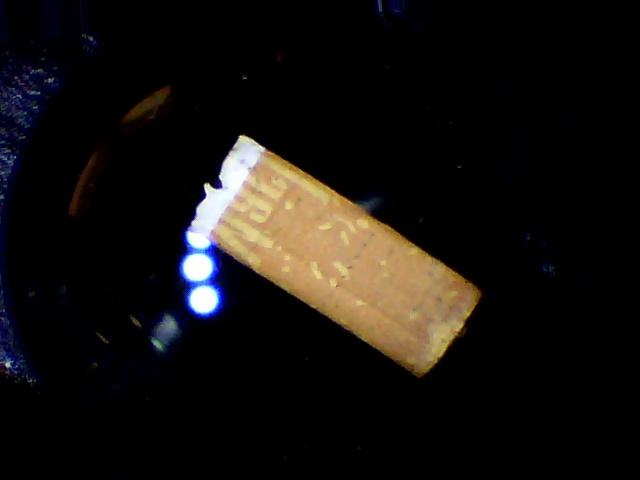megot: (171, 106, 497, 407)
